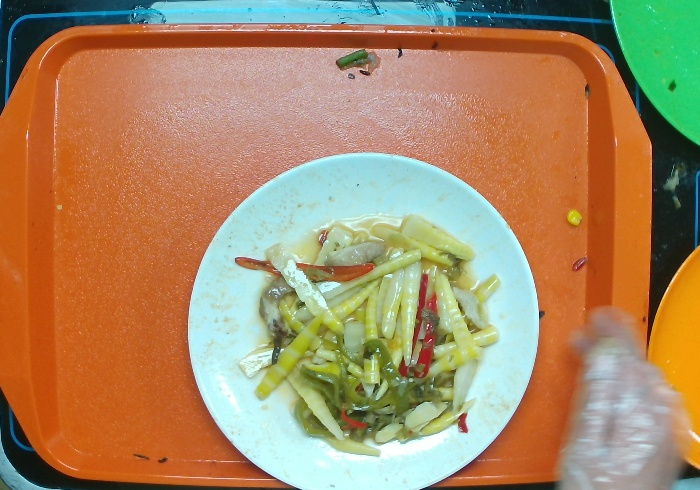HZYJPL-Bai_Se_Yuan_Pan: (186, 151, 541, 490)
